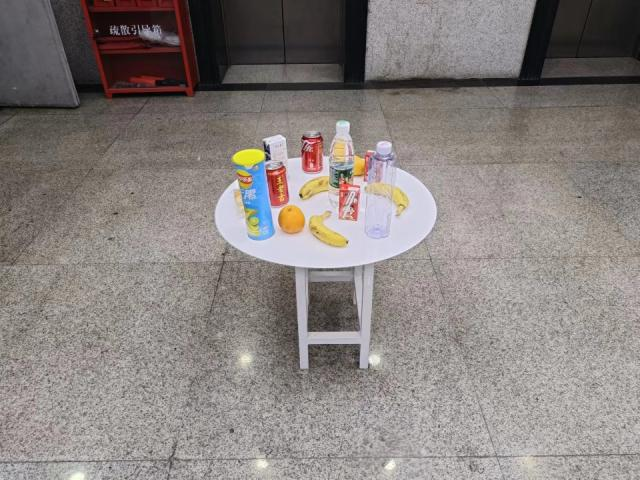Canned_drinks: (300, 130, 325, 176), (266, 161, 290, 207)
bottle: (364, 139, 396, 240), (329, 120, 355, 213)
cylinder: (231, 147, 276, 244)
drink_box: (264, 132, 292, 183), (340, 183, 360, 221)
